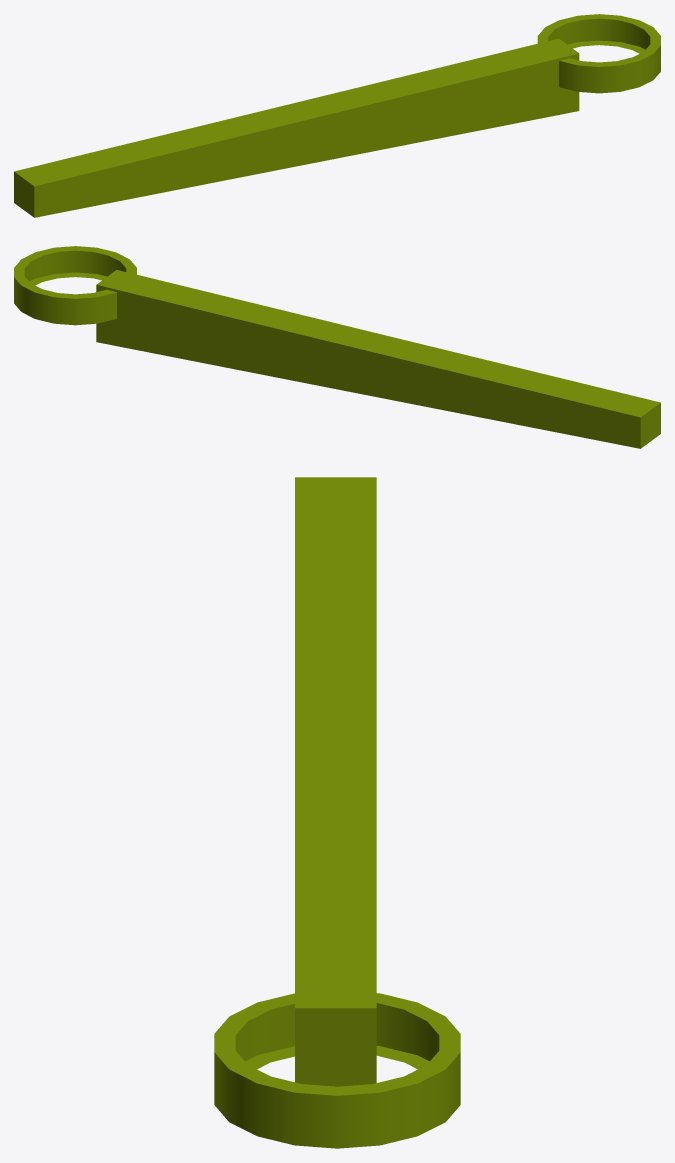
Rendered from SM_Poteautop.fbx.
The picture shows the model from 3 angles, top to bottom: view 1: azimuth 30°, elevation 25°; view 2: azimuth 150°, elevation 25°; view 3: azimuth 270°, elevation 25°; orthographic projection. The views are drawn at different scales.
Parts seen in each view (by area): view 1: Poteautop; view 2: Poteautop; view 3: Poteautop.
Boxes of the visible parts, x1=… form: Poteautop: x1=14, y1=14, x2=660, y2=217; Poteautop: x1=14, y1=246, x2=660, y2=448; Poteautop: x1=214, y1=477, x2=460, y2=1148.
Size of the model in its own units: 146 by 12.75 by 24.77.
